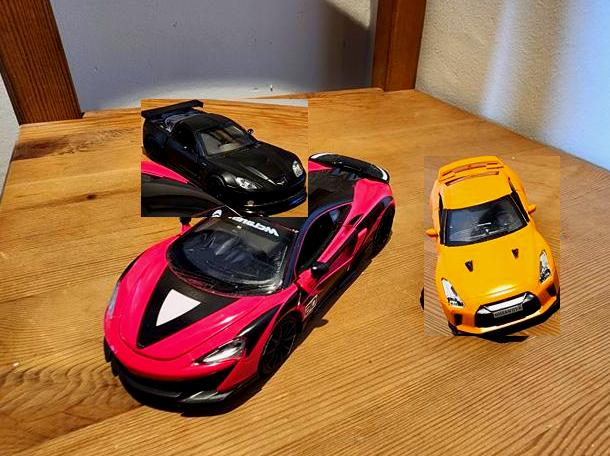toy-car: (102, 152, 396, 410), (423, 157, 559, 337), (141, 99, 308, 217)
